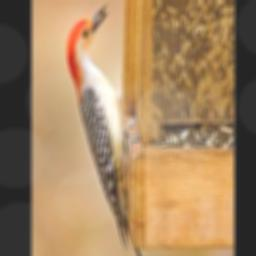Woodpecker: (65, 3, 149, 256)
